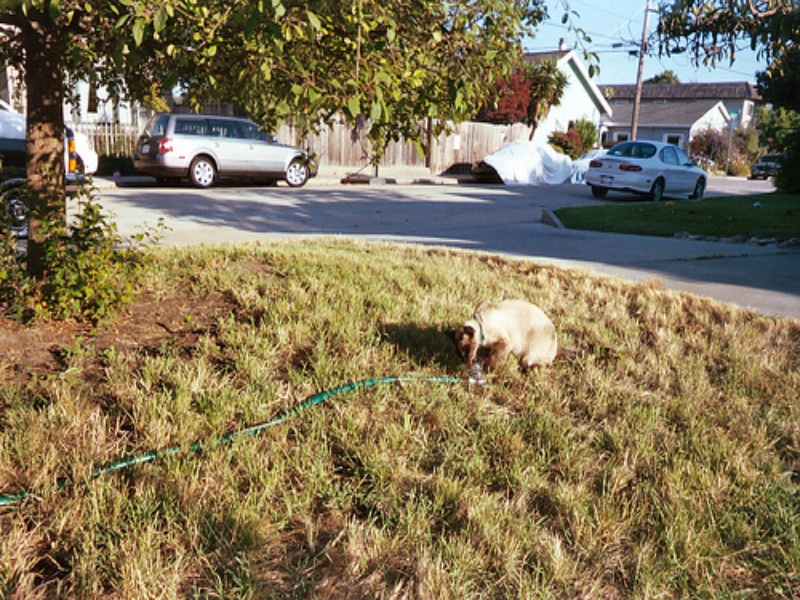car: (132, 113, 317, 188), (1, 117, 82, 227), (585, 139, 708, 204), (751, 153, 781, 182)
